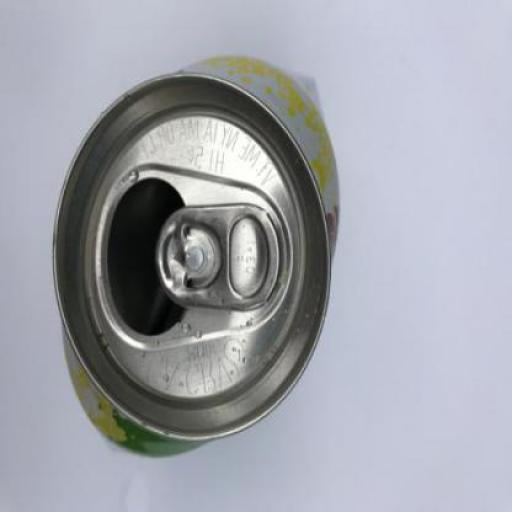metal: (52, 54, 342, 460)
